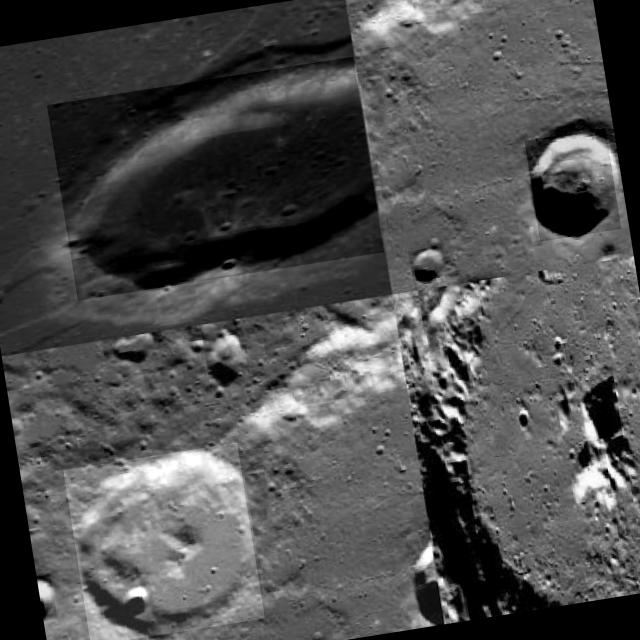crater: (392, 256, 640, 623), (47, 57, 384, 300), (63, 442, 264, 640), (524, 128, 622, 242), (407, 532, 443, 627), (408, 246, 448, 284), (116, 590, 150, 620), (36, 574, 58, 620)
